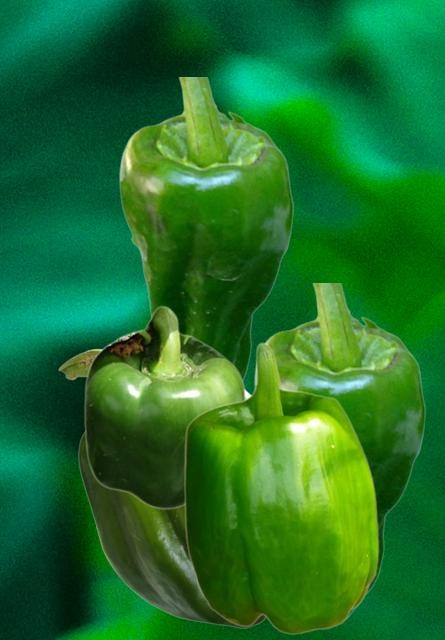bell_pepper: (58, 348, 265, 627), (253, 283, 425, 618), (183, 342, 378, 634), (118, 77, 293, 379), (83, 305, 245, 509)
